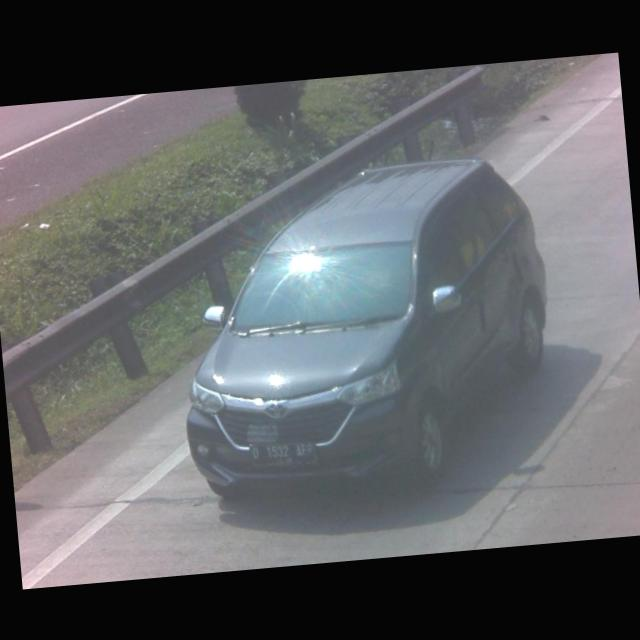plate: (250, 438, 318, 470)
